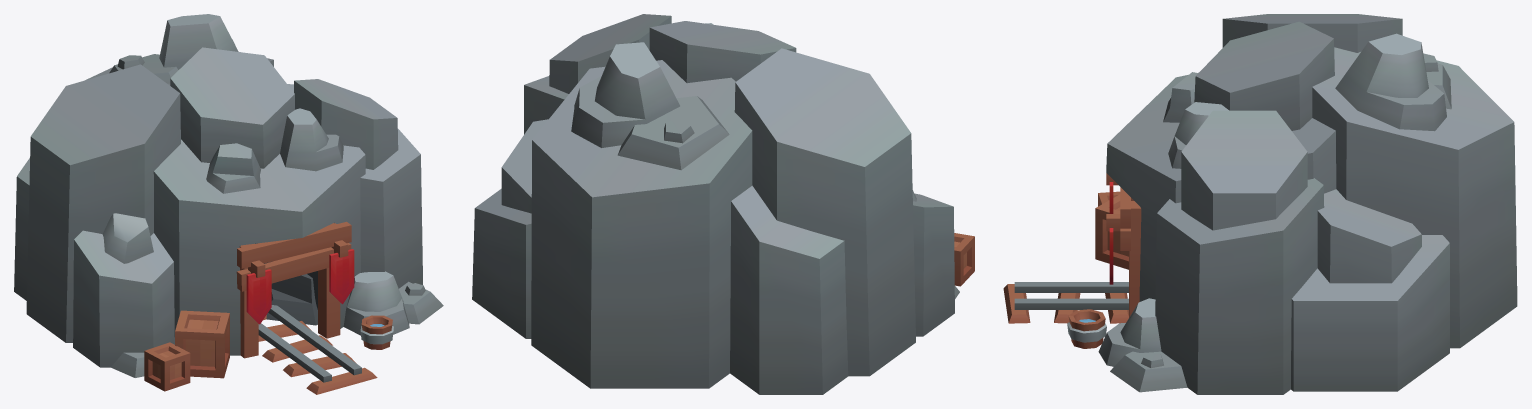
The model's file is mine_red.glb.
3 views of the same model, side by side, from view 1: azimuth 30°, elevation 25°; view 2: azimuth 150°, elevation 25°; view 3: azimuth 270°, elevation 25° (orthographic). The views are drawn at different scales.
Parts seen in each view (by area): view 1: building_mine_red; view 2: building_mine_red; view 3: building_mine_red.
Part boxes in pixels (<box>): building_mine_red: <box>14,14,443,394</box>; building_mine_red: <box>472,14,974,394</box>; building_mine_red: <box>1003,14,1517,394</box>.
Size of the model in its own units: 1.61 by 1.14 by 1.92.
1 material, 1 textured.
